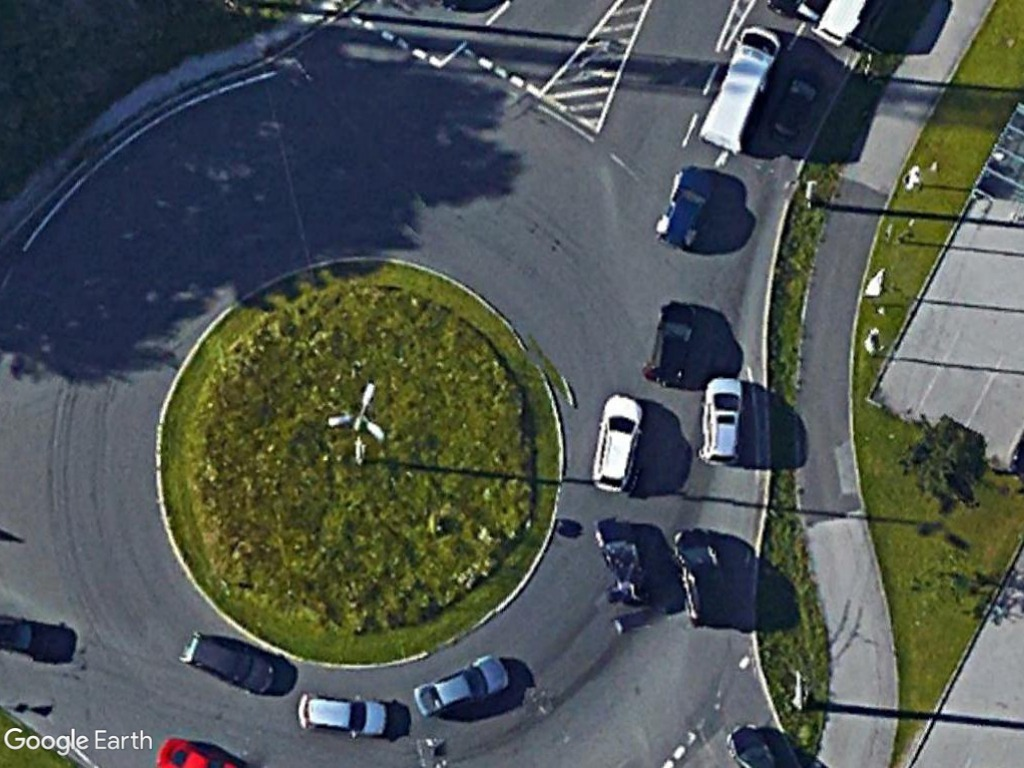car: (173, 626, 286, 700), (409, 649, 515, 724), (587, 388, 650, 497), (654, 162, 720, 252), (292, 690, 398, 741), (647, 292, 699, 392), (695, 367, 746, 467)
van: (693, 16, 787, 154)
